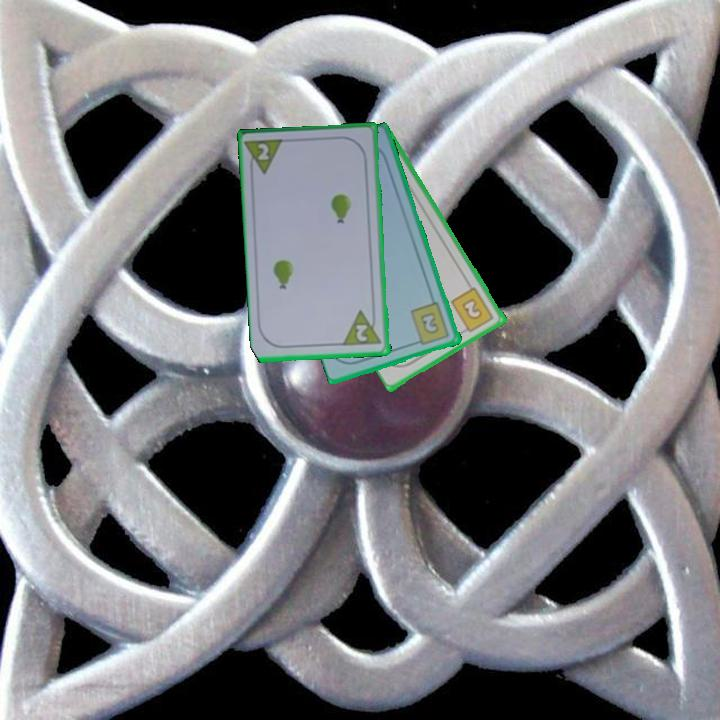2b: (448, 284, 497, 337), (407, 299, 452, 348)
2p: (243, 135, 288, 179), (352, 321, 370, 345)
